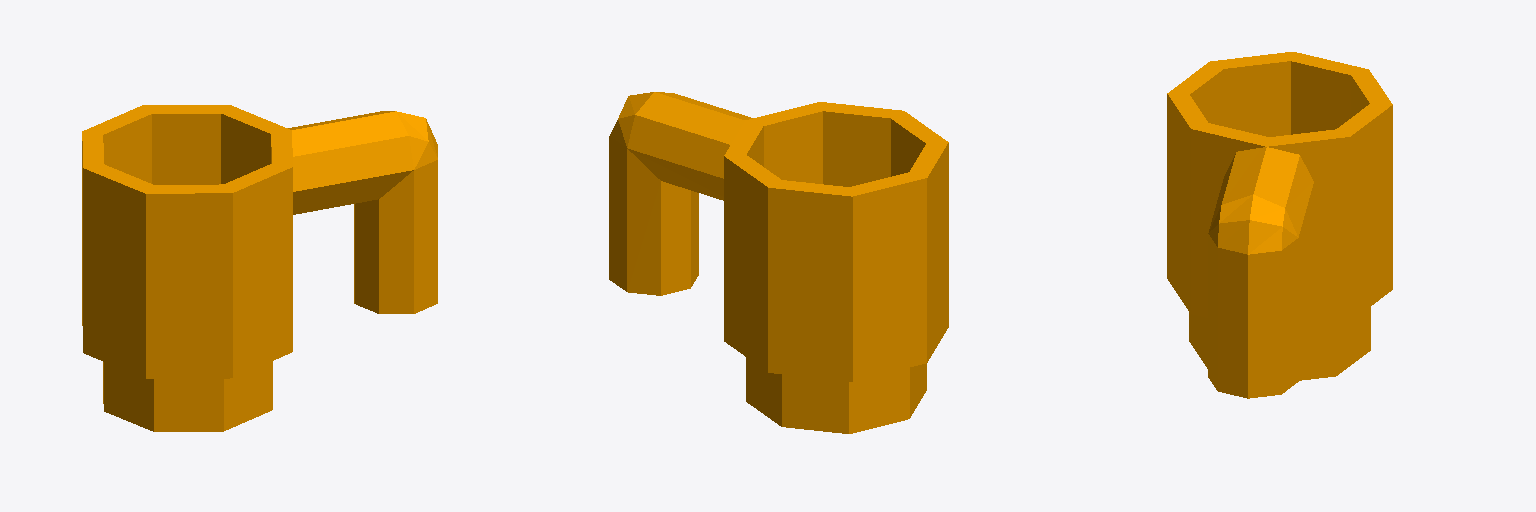
3 renders of one model, left to right at view 1: azimuth 30°, elevation 25°; view 2: azimuth 150°, elevation 25°; view 3: azimuth 270°, elevation 25°, orthographic.
Visible parts, largest first — view 1: Mesh_0034_Mesh_0034Mesh; view 2: Mesh_0034_Mesh_0034Mesh; view 3: Mesh_0034_Mesh_0034Mesh.
Part boxes in pixels (x1,y1,x2,y2): Mesh_0034_Mesh_0034Mesh: (82, 105, 437, 431); Mesh_0034_Mesh_0034Mesh: (609, 92, 948, 433); Mesh_0034_Mesh_0034Mesh: (1167, 52, 1392, 398).
Size of the model in its own units: 0.1286 by 0.0914 by 0.0757.
Materials: 1 (1 with a texture image).